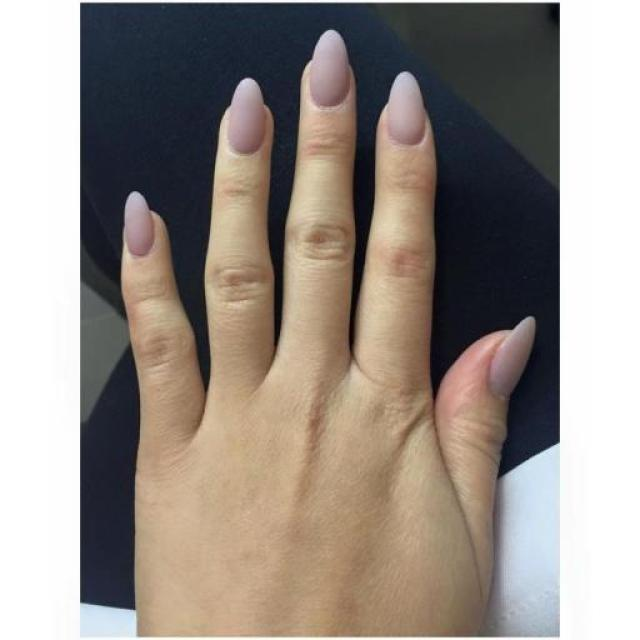Nail: (488, 316, 536, 398), (310, 30, 350, 108), (228, 78, 266, 154), (388, 72, 426, 146), (124, 192, 155, 257)
